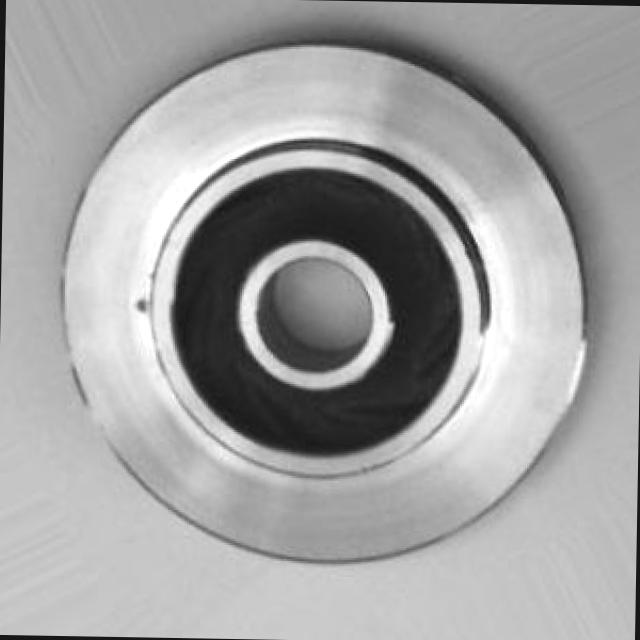Defect: (132, 289, 161, 325)
